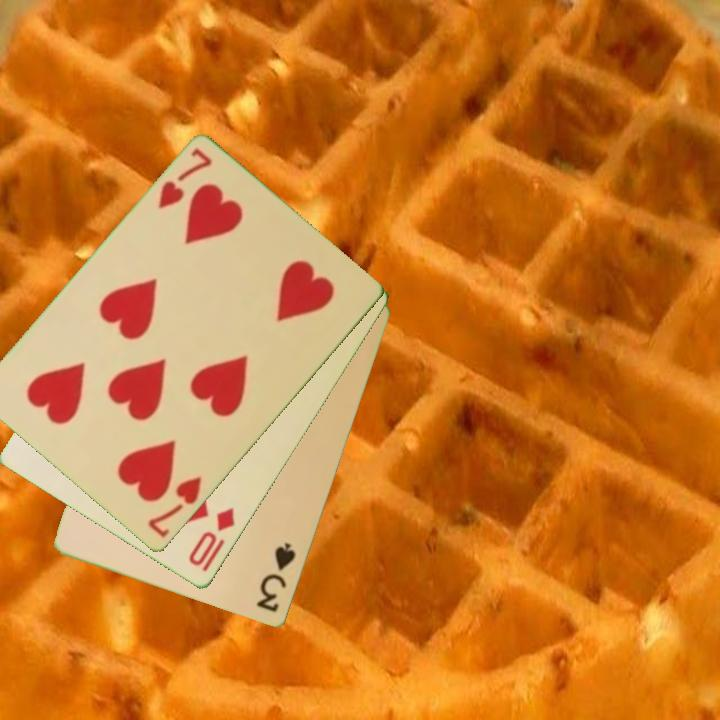10d: (185, 504, 238, 570)
3s: (253, 539, 299, 616)
7h: (144, 473, 205, 542), (154, 145, 215, 213)
